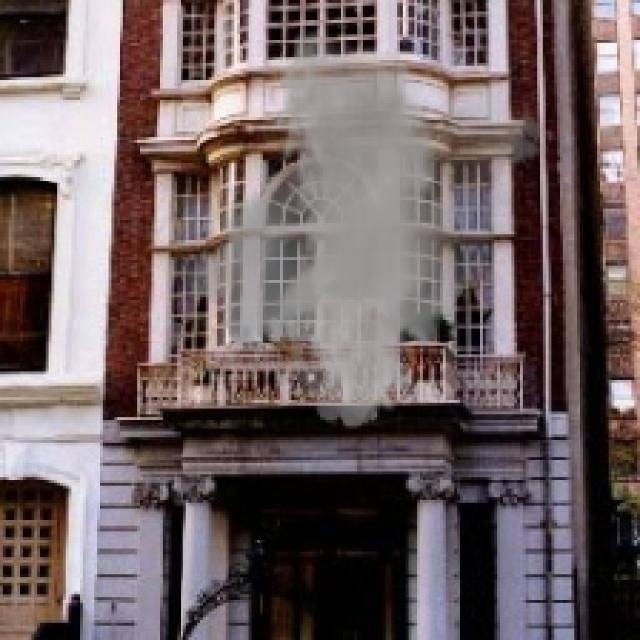Smoke: (177, 29, 557, 428)
